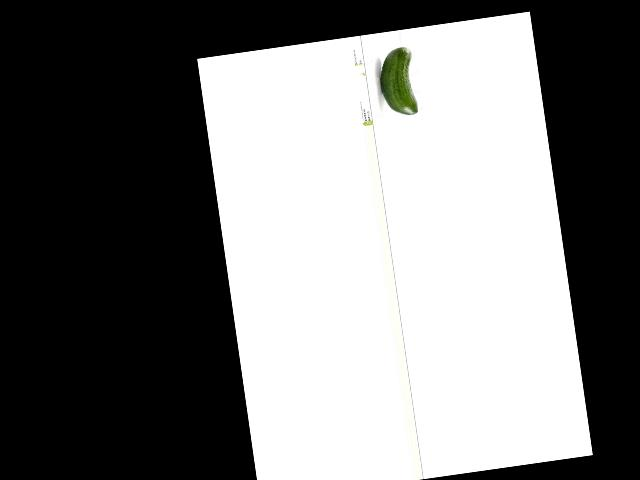cucumber: (375, 46, 418, 117)
